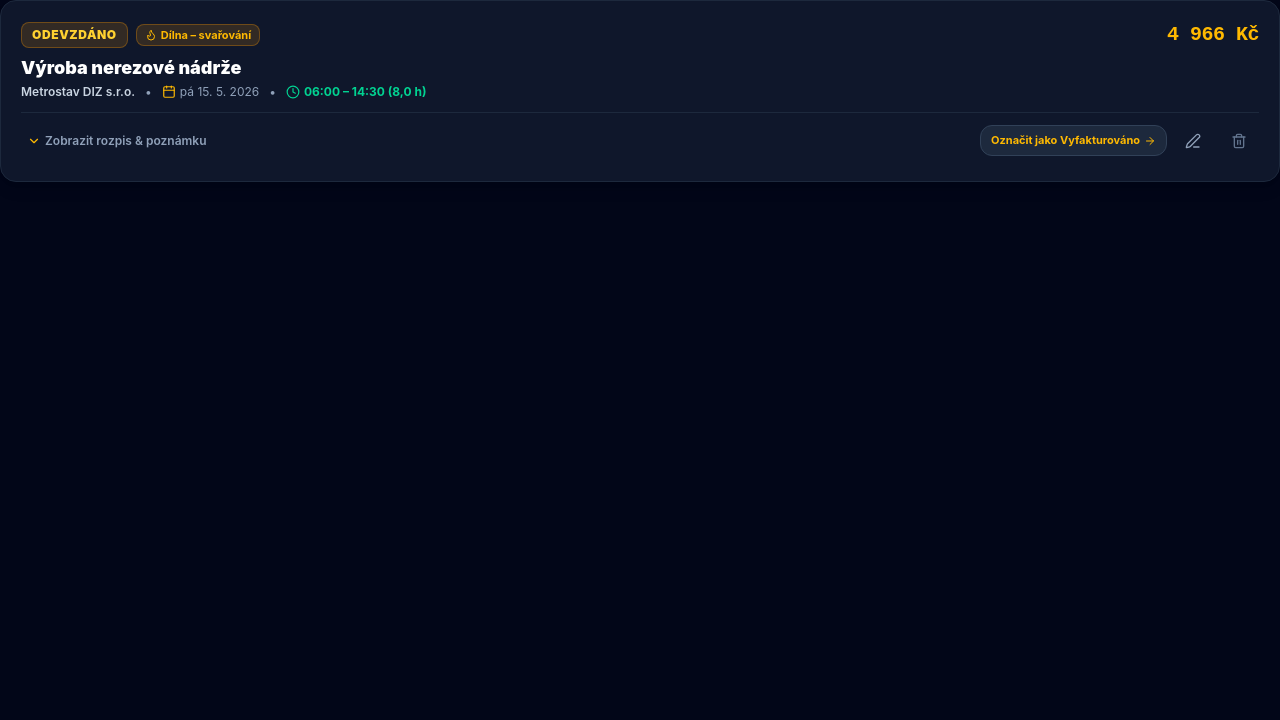
Test: Milestone M2 Adversarial Challenger 2 (UI Reactivity, Form State, Persistence & Report Rendering) › 4. EntryCard Rendering & Edge Cases › gracefully handles missing optional passport fields without crashing or rendering empty brackets
Note: Expand card to verify fallback in detailed technical passport block
Click the button "Zobrazit rozpis & poznámku". click: (117,140)
box: [21,128,212,152]
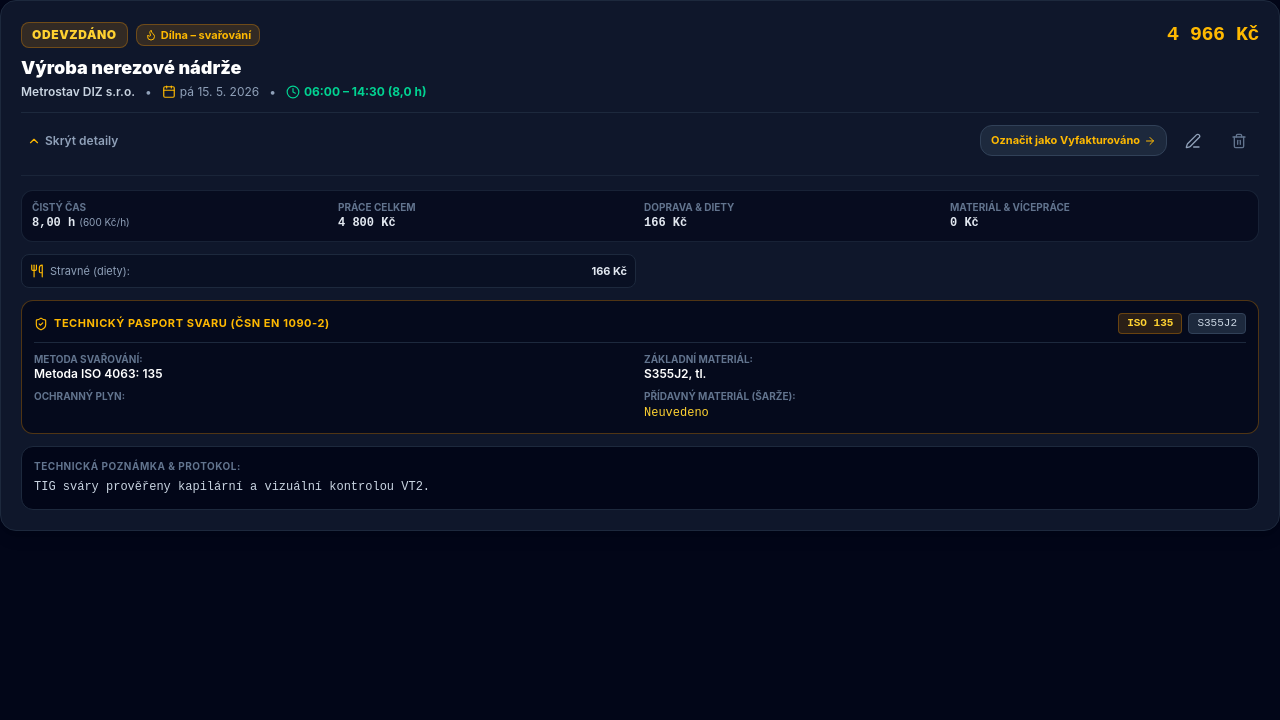
expect the text "Neuvedeno" is shown: met, box [644,406,709,420]
